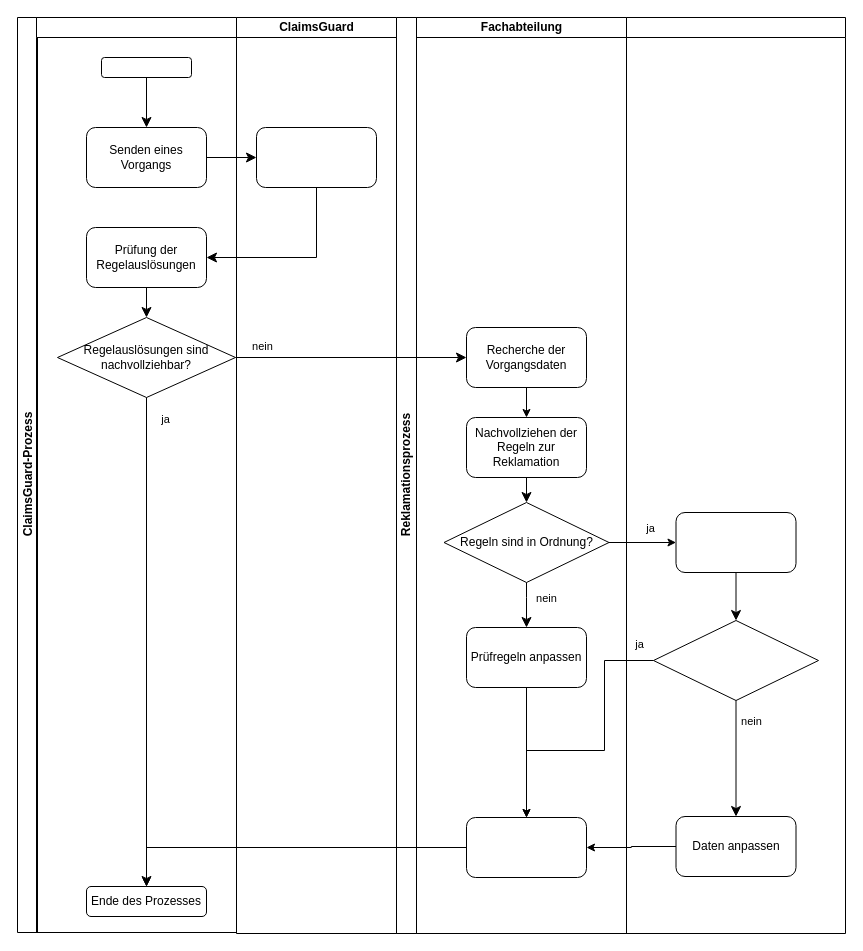
Image size: 863x951. Some labels were removed from this diagram. Each missing label, with the box of its shape:
Daten in Ordnung?: (652, 620, 818, 700)
Kunde: (36, 16, 236, 932)
Prozessstart: (100, 56, 192, 78)
Prüfen der Fahrzeugdaten: (675, 512, 796, 572)
Prüfung des Vorgangs: (256, 126, 376, 188)
Rechercheabteilung: (626, 16, 846, 934)
Rückmeldung über korrekte Regeln/Daten, inkl. Quellenangaben: (466, 816, 586, 878)
